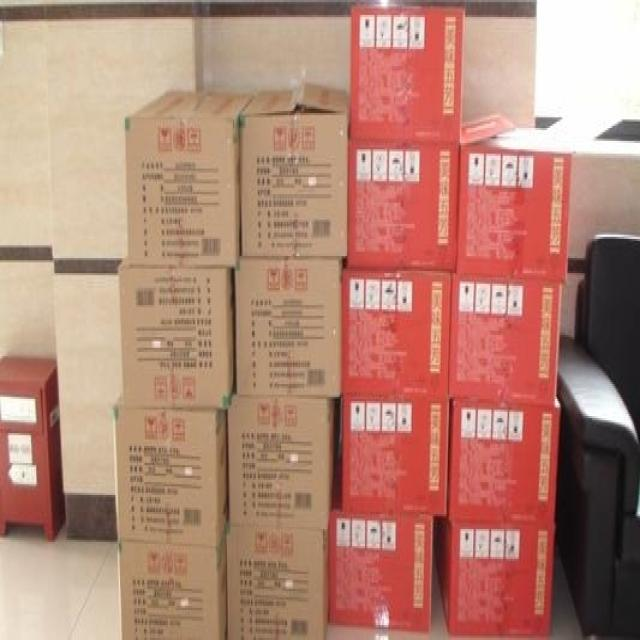box: (126, 86, 255, 267), (328, 459, 435, 633), (240, 89, 349, 256), (118, 254, 236, 408), (115, 389, 227, 549), (455, 141, 574, 285), (227, 376, 336, 528), (341, 255, 451, 399), (349, 7, 464, 142), (234, 256, 342, 396), (348, 137, 459, 272), (449, 272, 561, 404), (447, 395, 562, 522), (435, 516, 556, 634), (336, 396, 449, 516), (118, 525, 227, 638), (226, 526, 329, 638)
